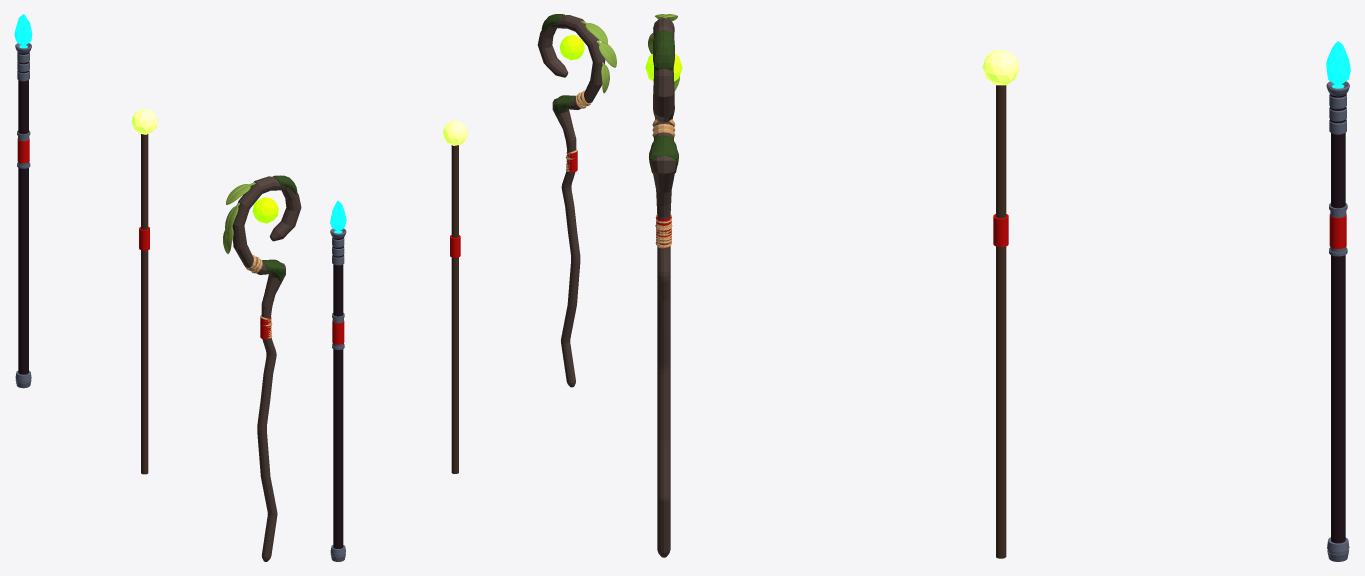
Rendered from WizardStaff001.fbx.
3 views of the same model, side by side, from view 1: azimuth 30°, elevation 25°; view 2: azimuth 150°, elevation 25°; view 3: azimuth 270°, elevation 25° (orthographic). The views are drawn at different scales.
Visible parts, largest first — view 1: Vert, Cylinder.001, Cylinder, Icosphere, Icosphere.001, Icosphere.002; view 2: Vert, Cylinder.001, Cylinder, Icosphere, Icosphere.001, Icosphere.002; view 3: Cylinder.001, Vert, Cylinder, Icosphere.001.
Boxes of the visible parts, left/top/right/bottom form: Vert: left=232, top=176, right=301, bottom=561; Cylinder.001: left=15, top=43, right=31, bottom=388; Cylinder: left=141, top=134, right=148, bottom=474; Icosphere: left=252, top=197, right=278, bottom=223; Icosphere.001: left=131, top=108, right=157, bottom=134; Icosphere.002: left=14, top=14, right=32, bottom=45; Vert: left=537, top=15, right=605, bottom=387; Cylinder.001: left=330, top=228, right=346, bottom=561; Cylinder: left=451, top=145, right=458, bottom=473; Icosphere: left=559, top=35, right=584, bottom=60; Icosphere.001: left=442, top=120, right=467, bottom=145; Icosphere.002: left=330, top=200, right=346, bottom=230; Cylinder.001: left=1326, top=81, right=1349, bottom=561; Vert: left=651, top=18, right=676, bottom=557; Cylinder: left=996, top=85, right=1006, bottom=558; Icosphere.001: left=982, top=50, right=1019, bottom=85.
Bounding box in the file's own units: 36.57 × 175 × 209.
